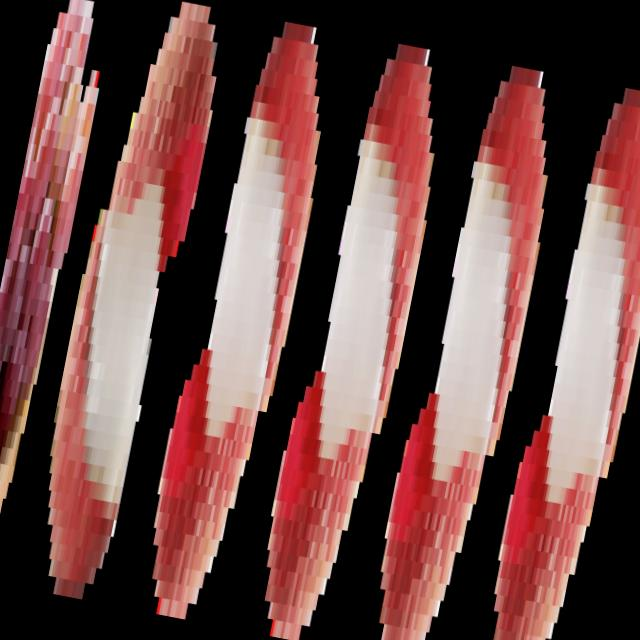lychee: (18, 0, 243, 607), (137, 0, 354, 629), (248, 20, 465, 640), (361, 42, 578, 640), (478, 65, 640, 640)
